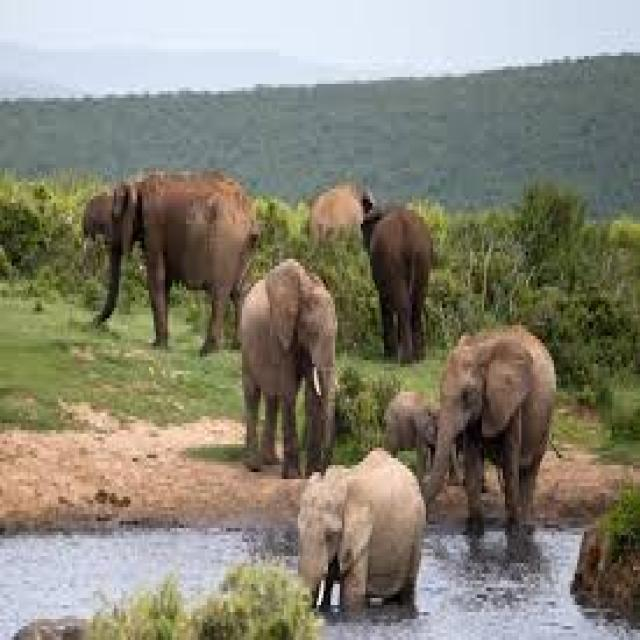Elephant: (90, 168, 260, 353), (419, 322, 561, 535), (295, 444, 426, 616), (238, 255, 338, 476), (358, 199, 433, 364), (308, 178, 372, 245)
